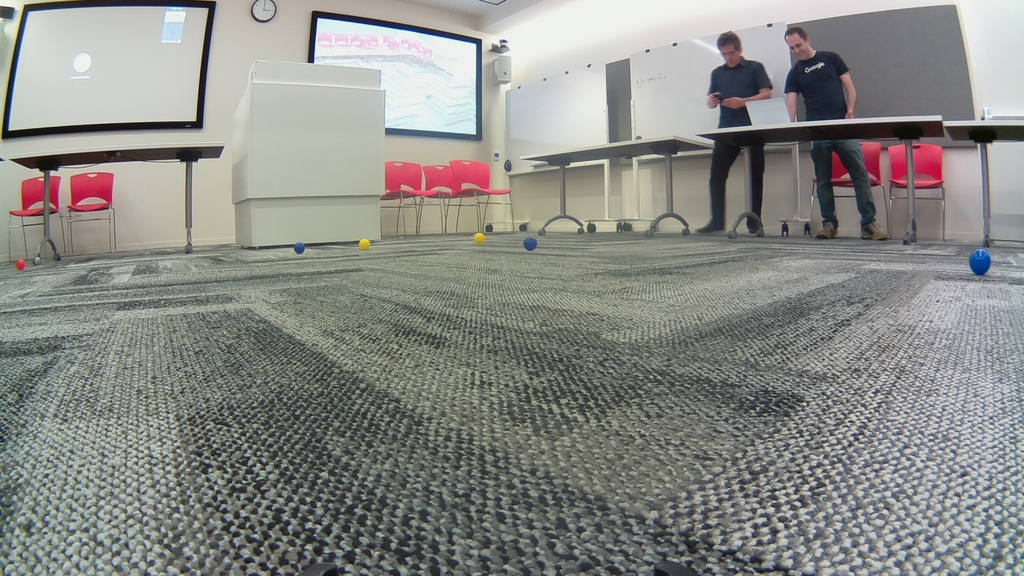ball: (16, 259, 25, 270)
